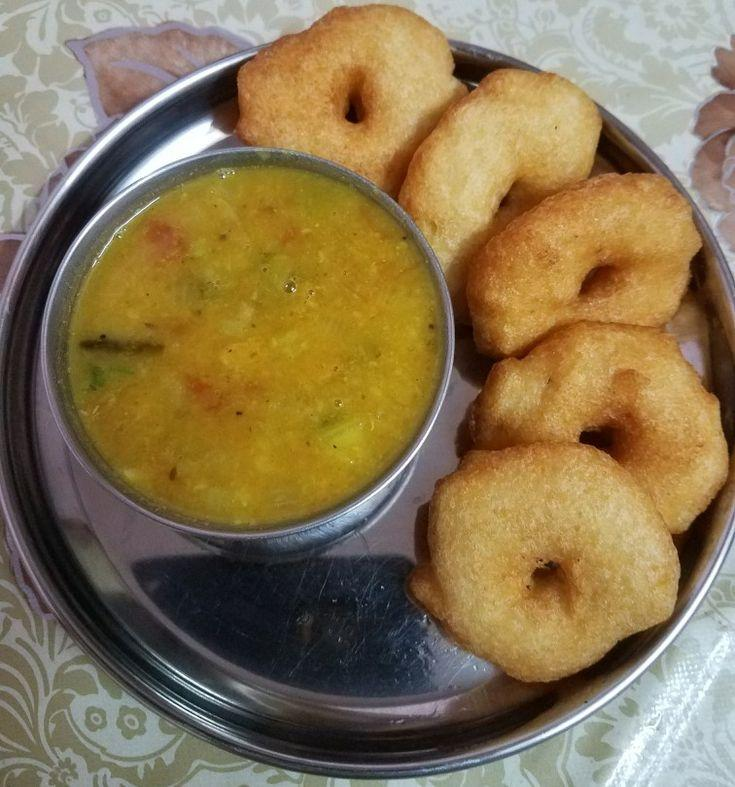medu vada: (433, 349, 731, 681), (241, 1, 596, 192), (436, 171, 695, 352)
sambhar: (82, 198, 427, 525)
